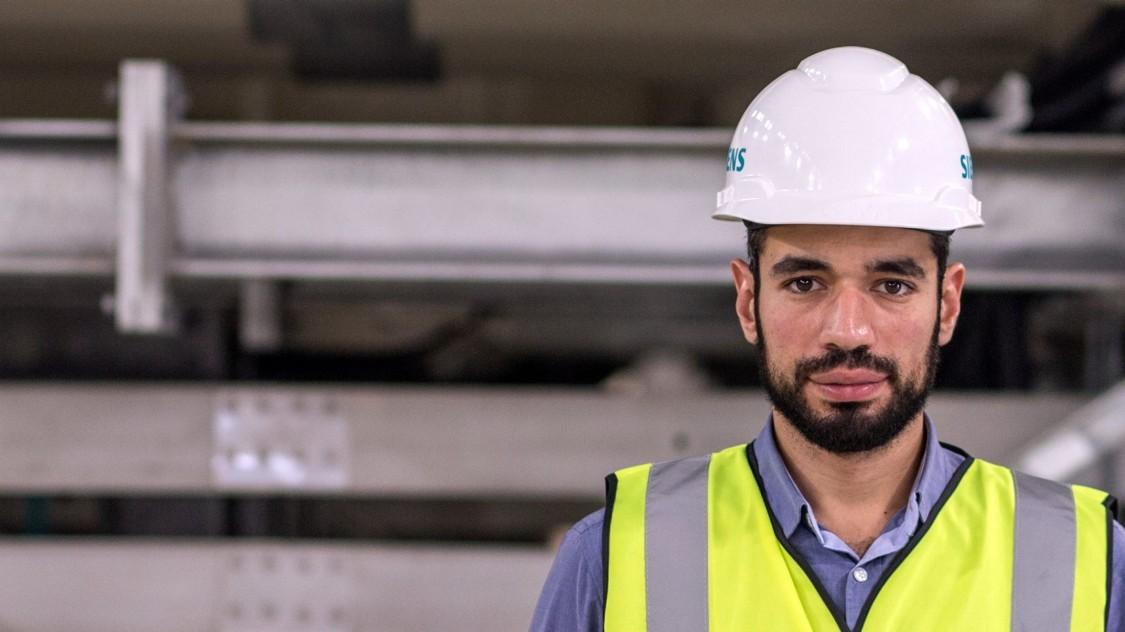helmet: (711, 44, 986, 233)
